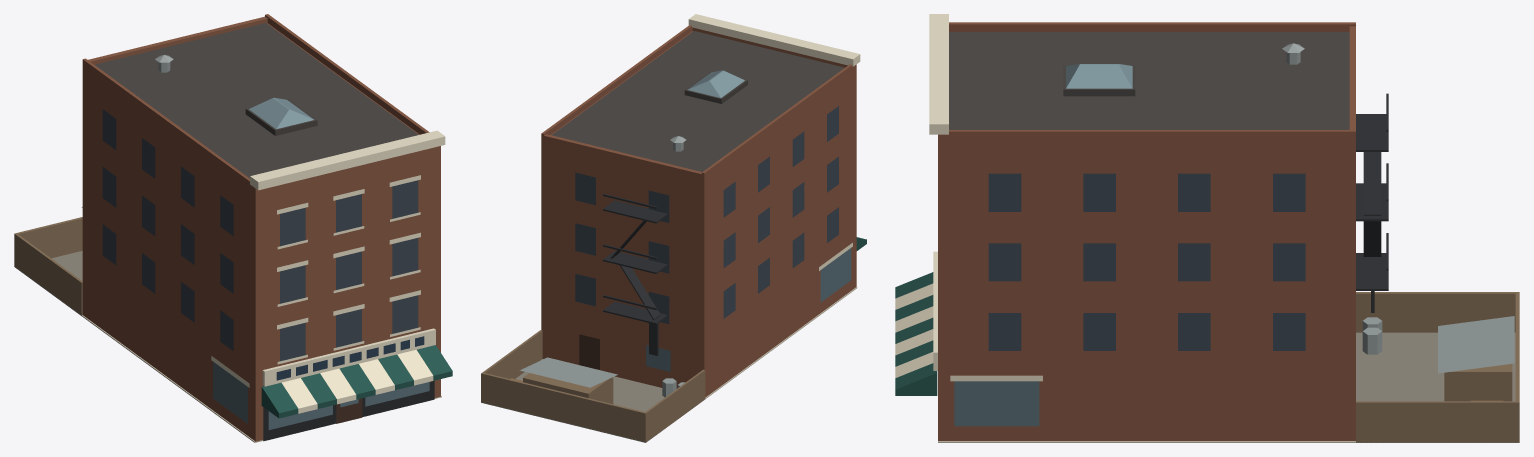
File: shop_wt.glb
The picture shows the model from 3 angles, left to right: view 1: azimuth 30°, elevation 25°; view 2: azimuth 150°, elevation 25°; view 3: azimuth 270°, elevation 25°; orthographic projection. The views are drawn at different scales.
Parts seen in each view (by area): view 1: shop_wt; view 2: shop_wt; view 3: shop_wt.
Part boxes in pixels (x1=…): shop_wt: x1=14, y1=14, x2=452, y2=442; shop_wt: x1=481, y1=14, x2=866, y2=442; shop_wt: x1=895, y1=14, x2=1519, y2=442.
Size of the model in its own units: 18 by 24.57 by 42.98.
